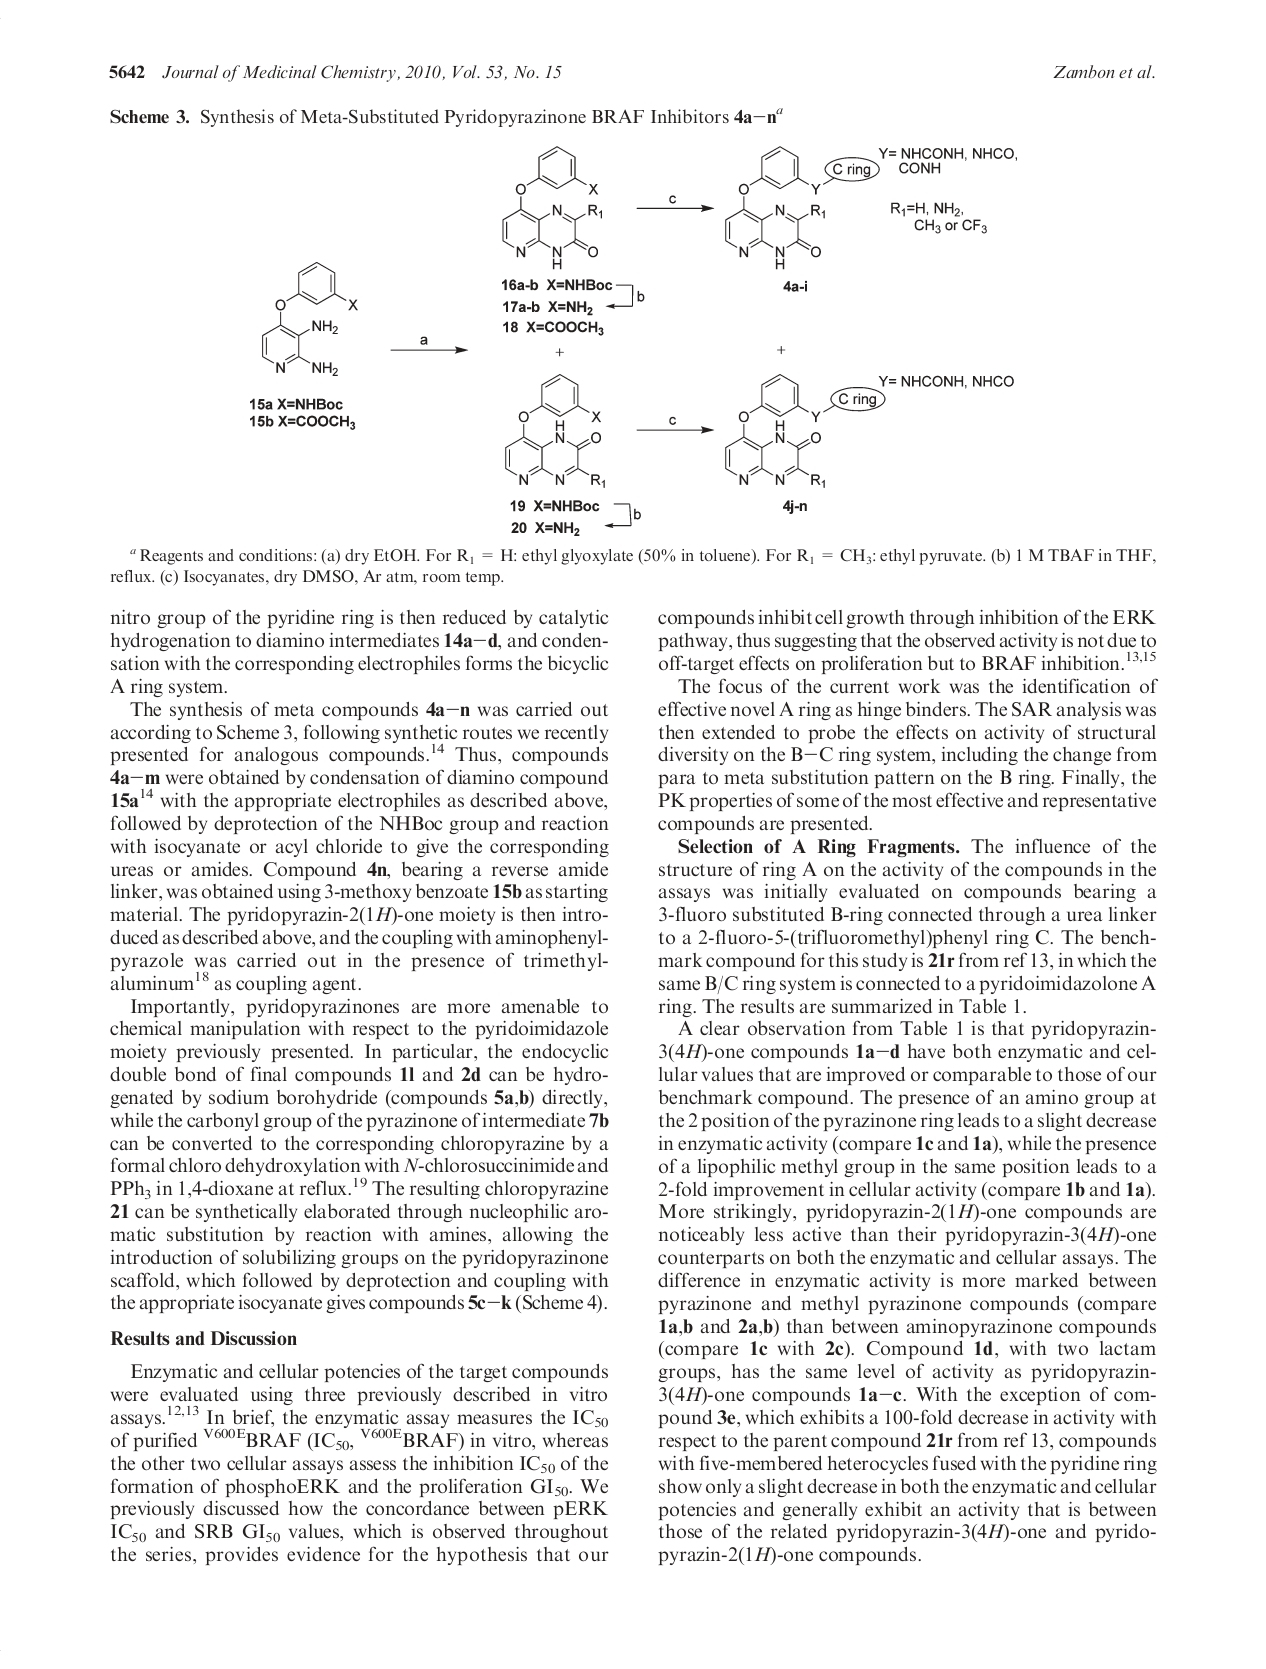exist_molecular: (723, 146, 879, 271), (723, 372, 887, 485), (500, 145, 605, 271), (503, 372, 609, 492), (261, 255, 362, 376)
